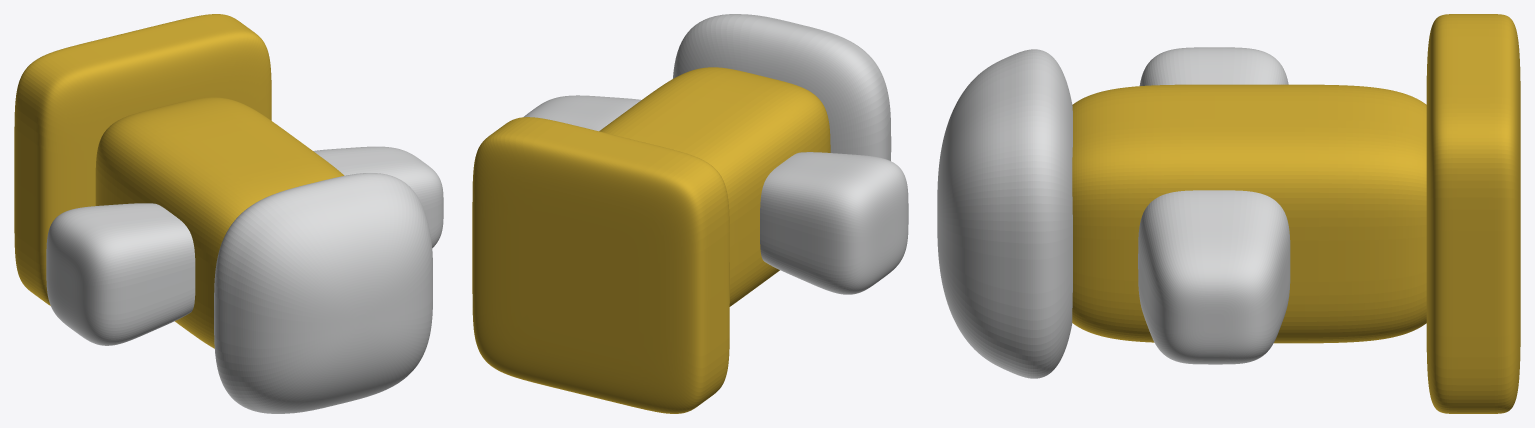
Rendered from classic_fire_hydrant_sq.glb.
3 views of the same model, side by side, from view 1: azimuth 30°, elevation 25°; view 2: azimuth 150°, elevation 25°; view 3: azimuth 270°, elevation 25° (orthographic). The views are drawn at different scales.
Visible parts, largest first — view 1: superquadric_2, superquadric_1, superquadric_0, superquadric_3, superquadric_4; view 2: superquadric_1, superquadric_0, superquadric_3, superquadric_2, superquadric_4; view 3: superquadric_0, superquadric_2, superquadric_1, superquadric_4, superquadric_3.
Part boxes in pixels (box(x1,y1,x2,y2)): superquadric_2: box(214, 173, 432, 413); superquadric_1: box(14, 14, 271, 305); superquadric_0: box(95, 97, 344, 348); superquadric_3: box(46, 203, 195, 345); superquadric_4: box(313, 146, 443, 247); superquadric_1: box(472, 117, 729, 413); superquadric_0: box(599, 67, 830, 306); superquadric_3: box(760, 152, 908, 294); superquadric_2: box(673, 14, 891, 160); superquadric_4: box(523, 95, 641, 131); superquadric_0: box(1072, 84, 1426, 343); superquadric_2: box(937, 49, 1072, 378); superquadric_1: box(1426, 14, 1520, 413); superquadric_4: box(1138, 190, 1290, 364); superquadric_3: box(1139, 47, 1288, 85).
Bounding box in the file's own units: 0.8889 × 0.5656 × 1.
